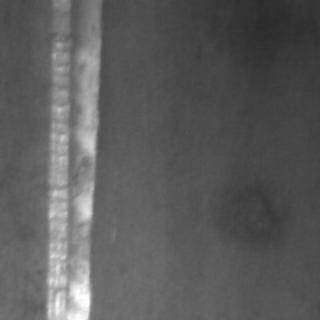scratches: (39, 1, 107, 316)
